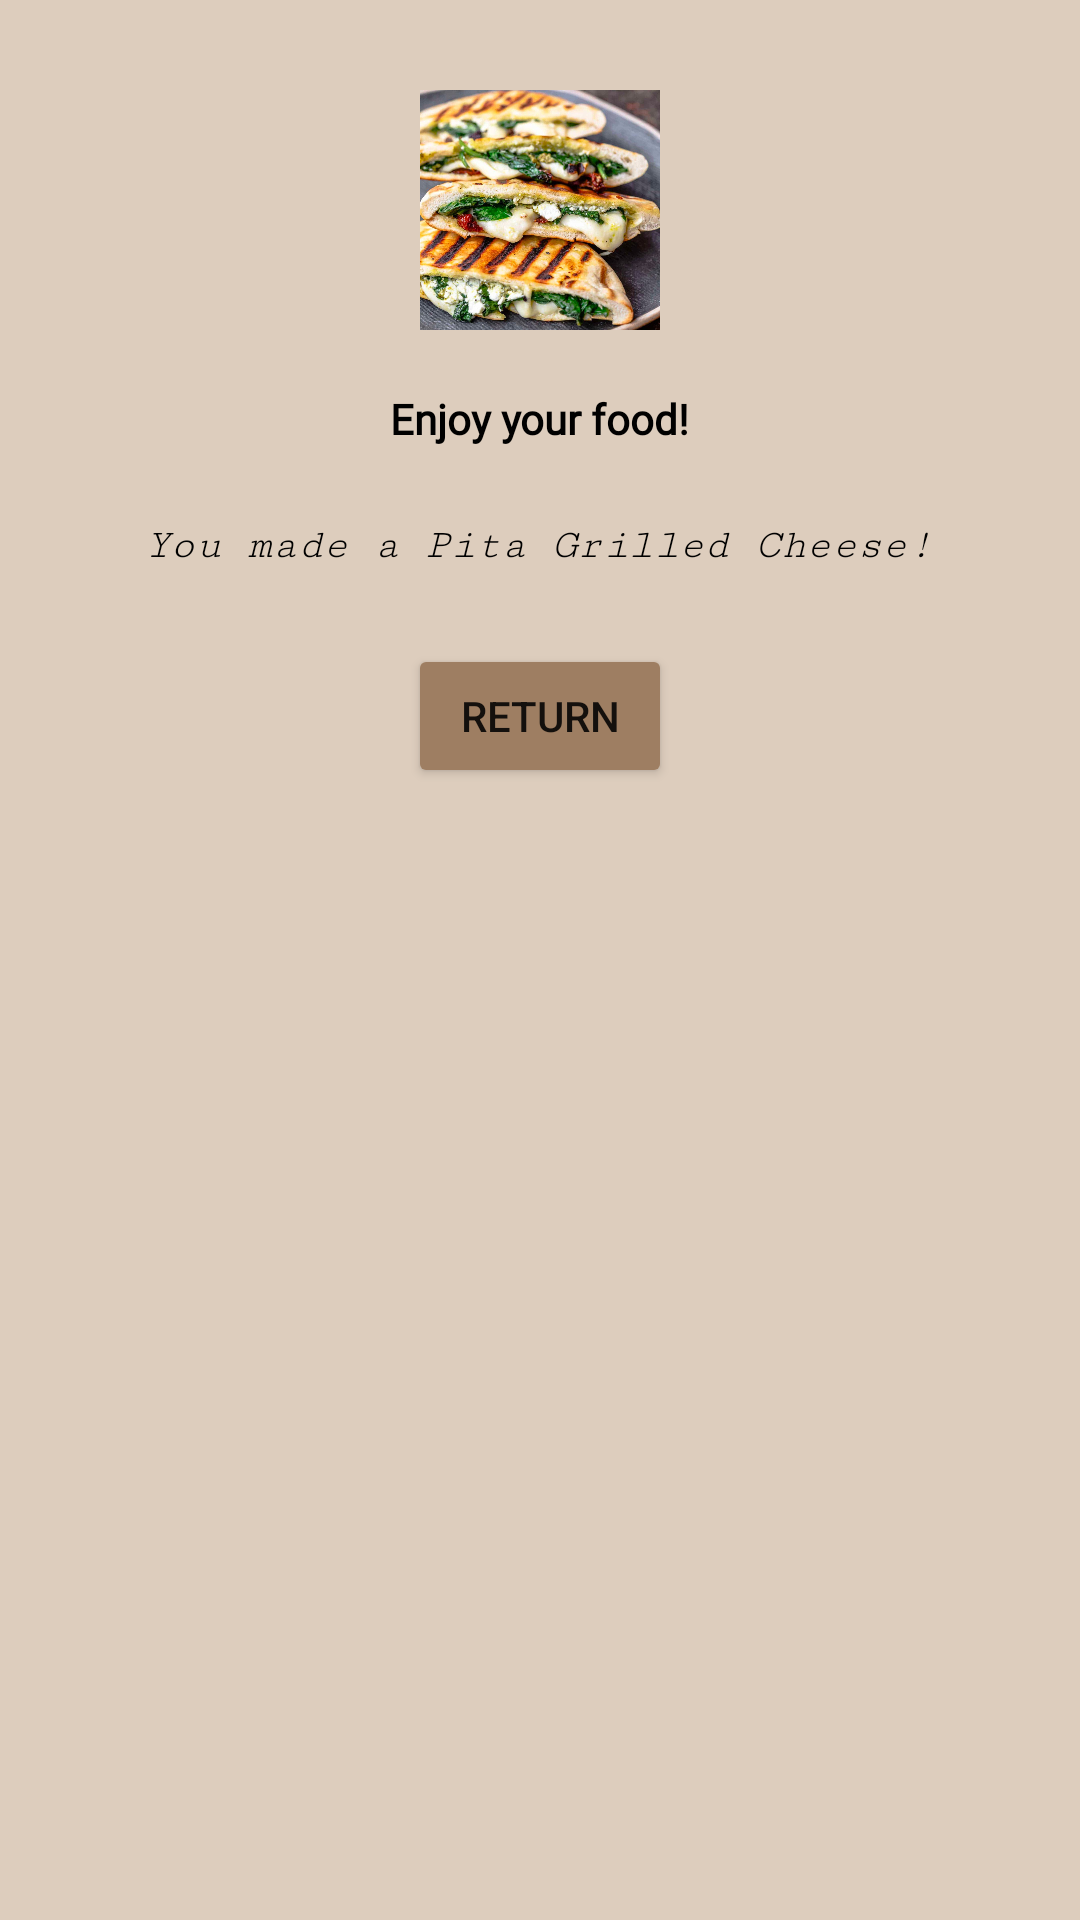

Where icons sit on this 1080px x 1920px app screen, as (x1, y1, x2, y2):
pitagrilledcheese: (420, 90, 660, 330)
